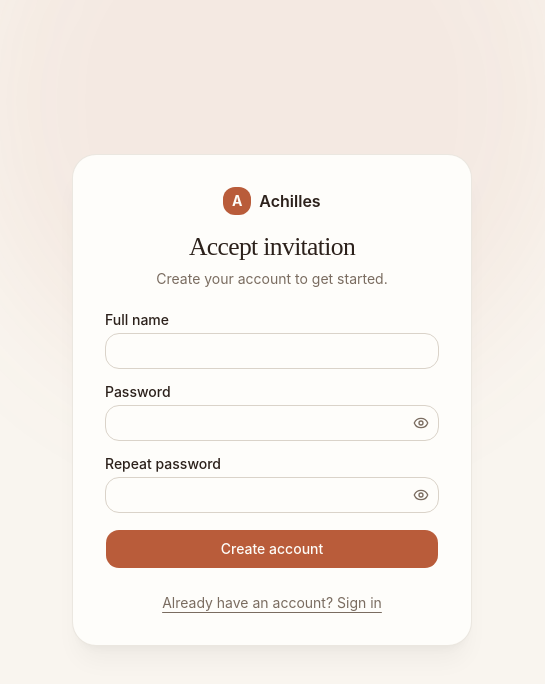
Test: InviteAcceptPage › shows a terminal state for a spent invite
The width and height of the screenshot is (545, 684).
Type "New Member" into the field labelled "Full name" at (272, 351), box [105,333,439,369]
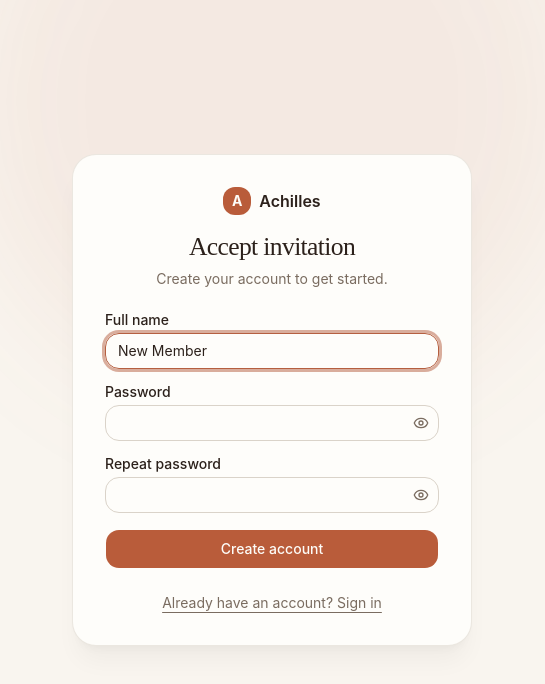
Type "a-fresh-passphrase-2026" into the password field labelled "Password" at (272, 423), box [105,405,439,441]
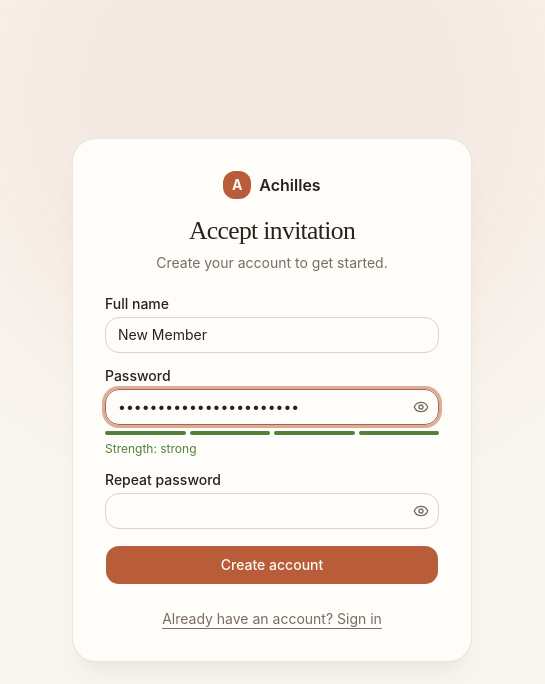
Type "a-fresh-passphrase-2026" into the password field labelled "Repeat password" at (272, 511), box [105,493,439,529]
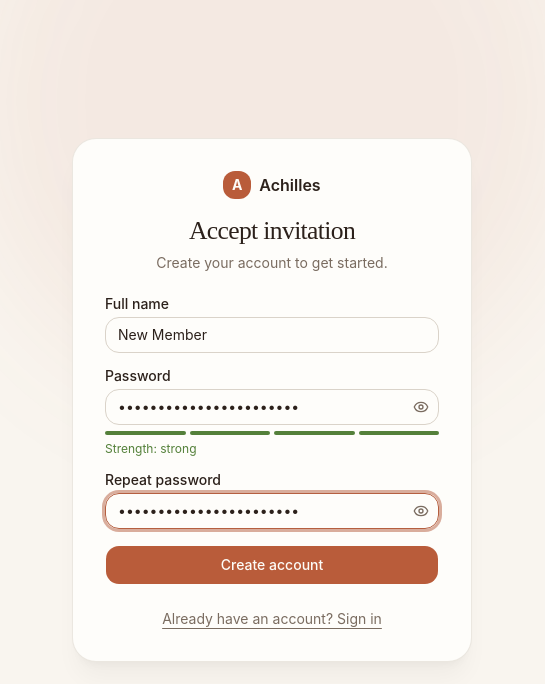
Click the button "Create account" at (272, 565), box [105,545,439,585]
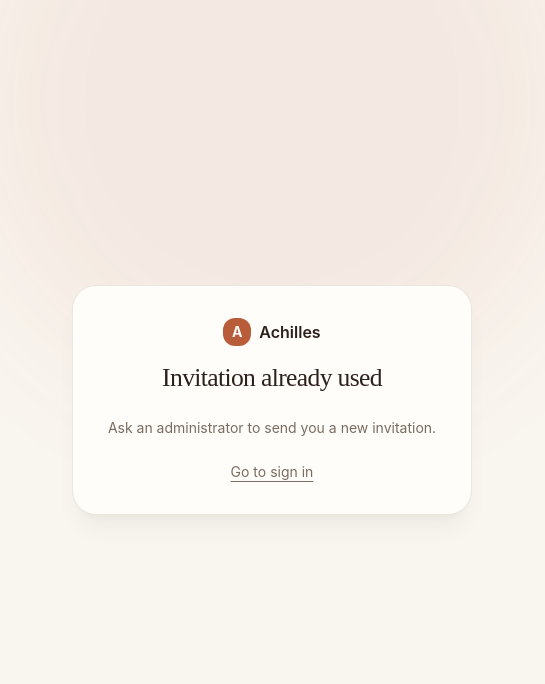
Expected: the heading "Invitation already used" is shown, [162,362,382,394]
